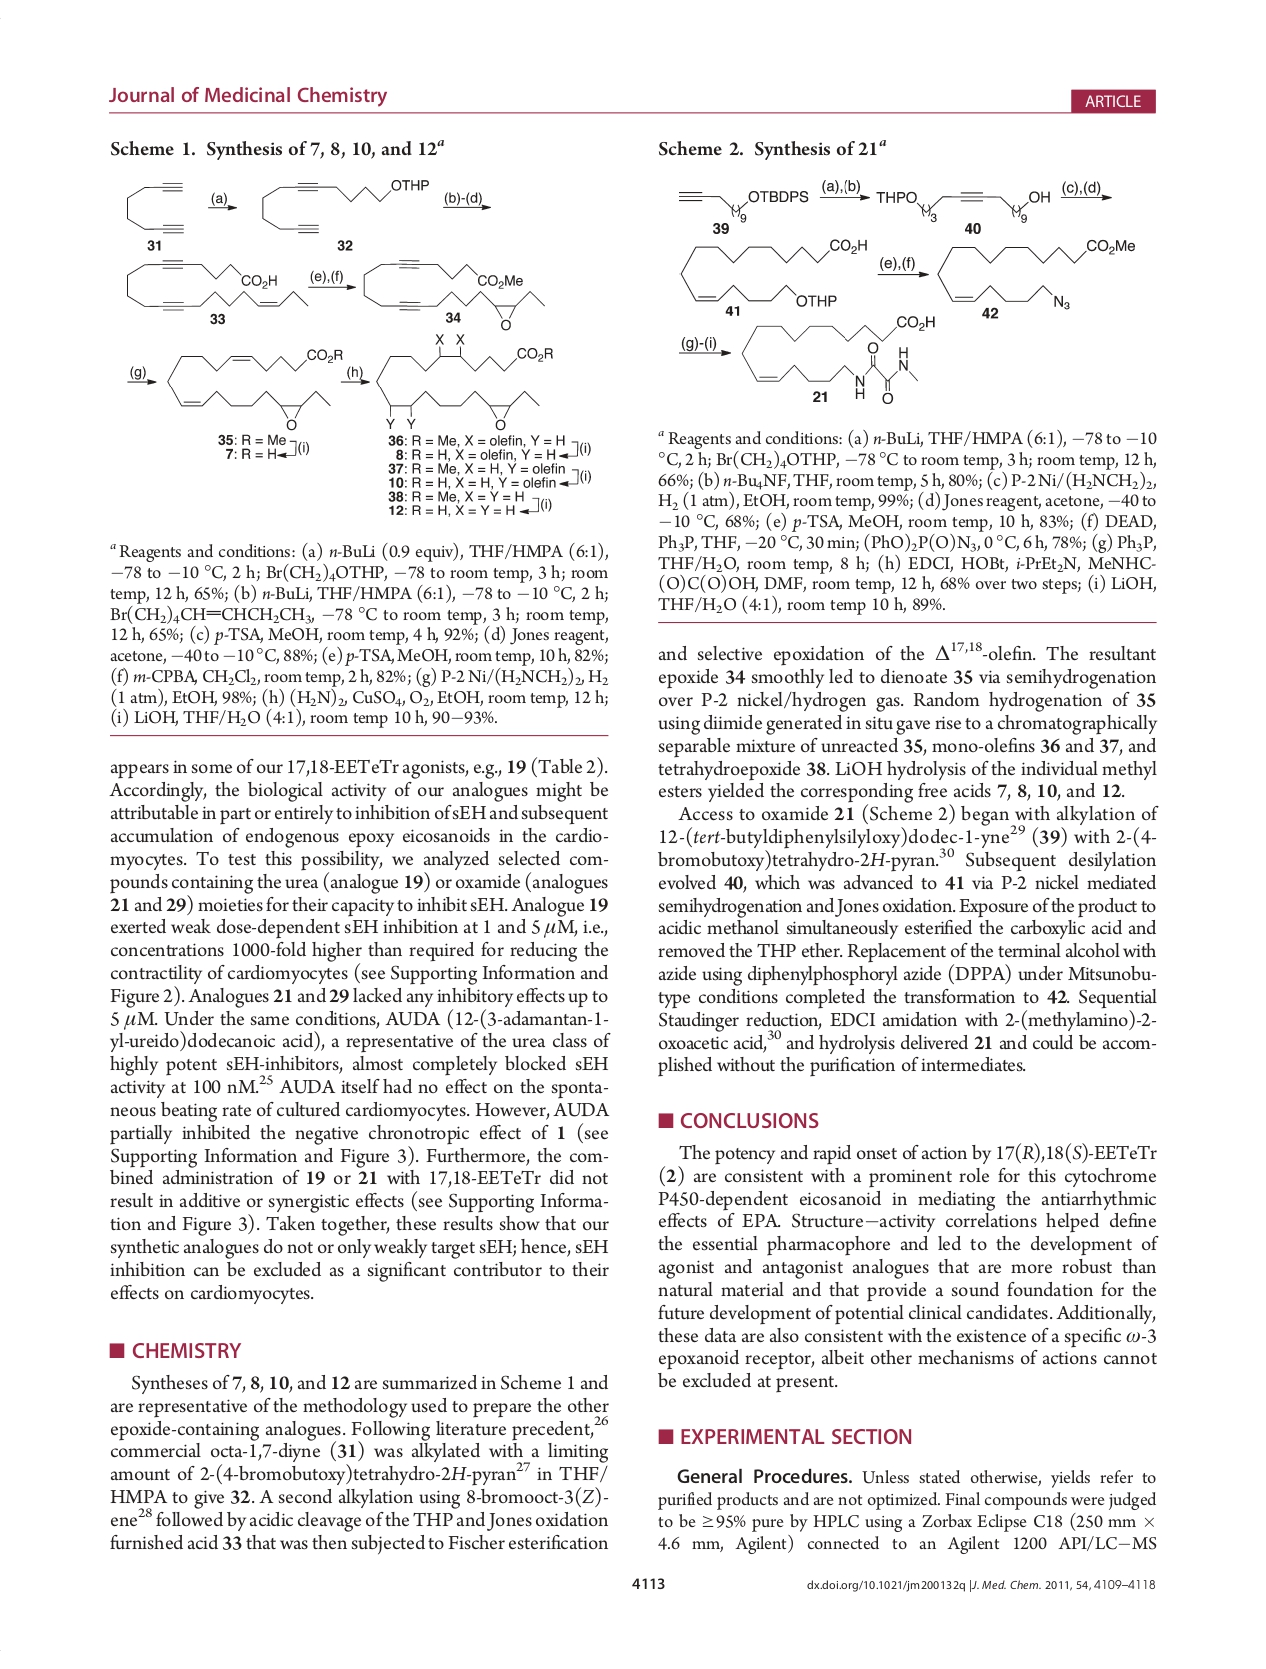exist_molecular: (735, 313, 938, 410), (372, 332, 553, 430), (164, 342, 344, 431), (360, 253, 547, 332), (934, 237, 1136, 309), (676, 237, 868, 309), (254, 176, 431, 239), (118, 257, 309, 315), (872, 181, 1052, 227), (676, 185, 813, 223), (122, 176, 188, 237)
